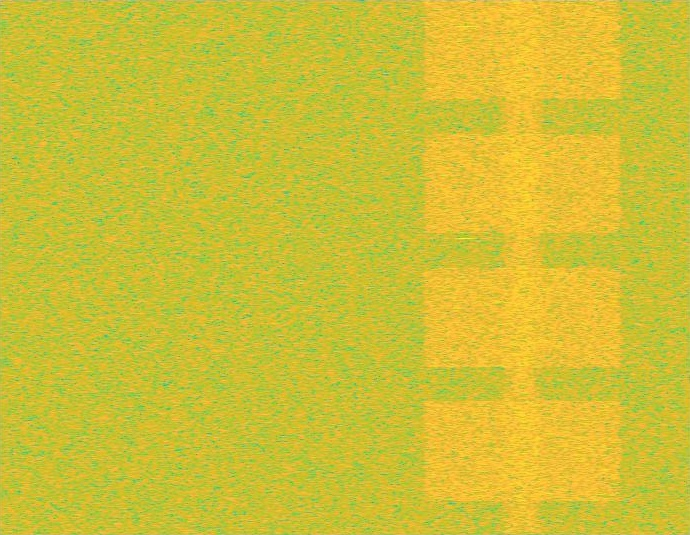5G: (419, 0, 626, 534)
DSSS: (499, 0, 546, 534)
Radar: (459, 0, 473, 534)
